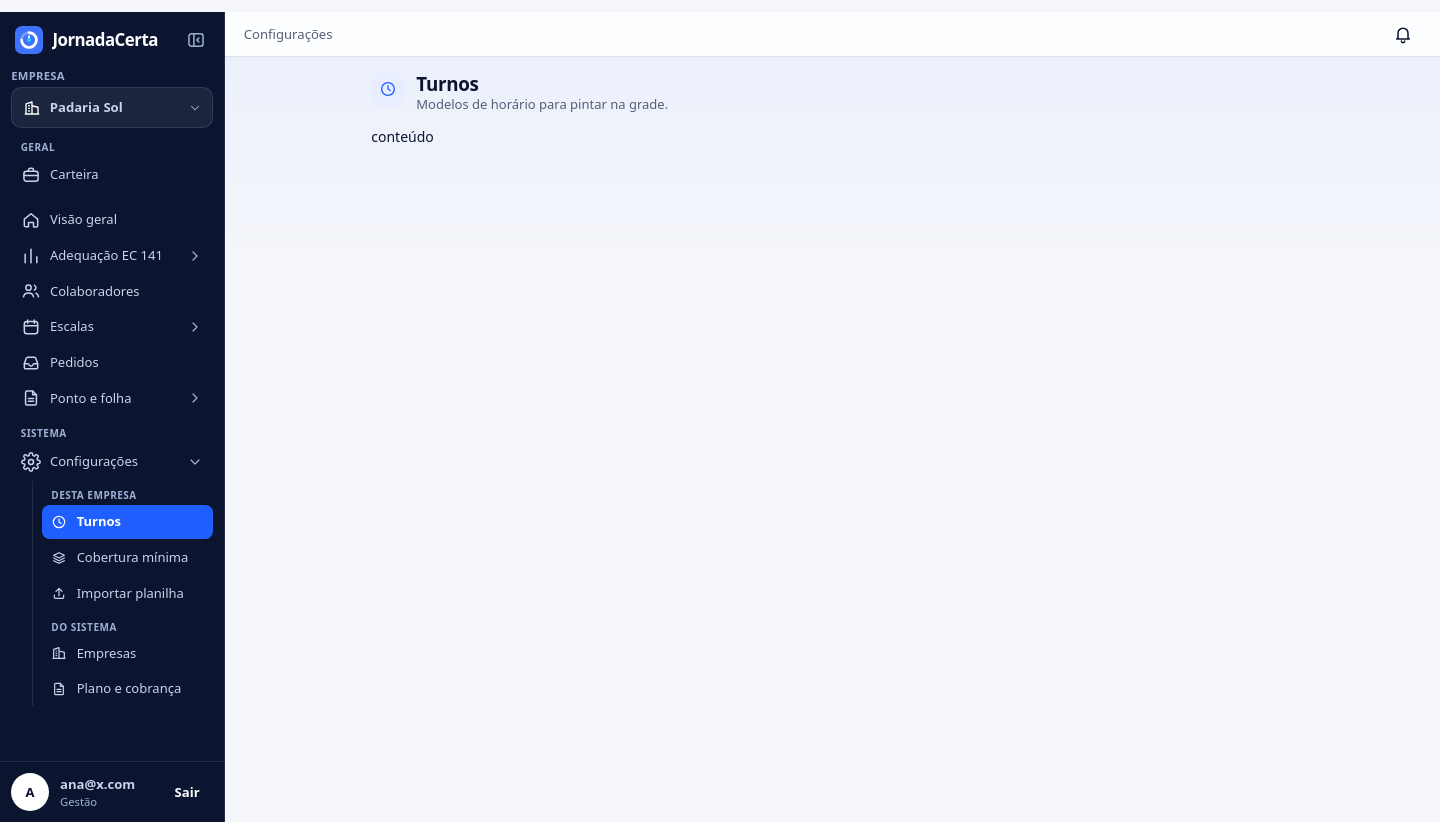
Test: Shell › recolhe para o modo compacto e expande de volta
Click the button named "Recolher o menu": point(196, 40) [179,23,213,57]
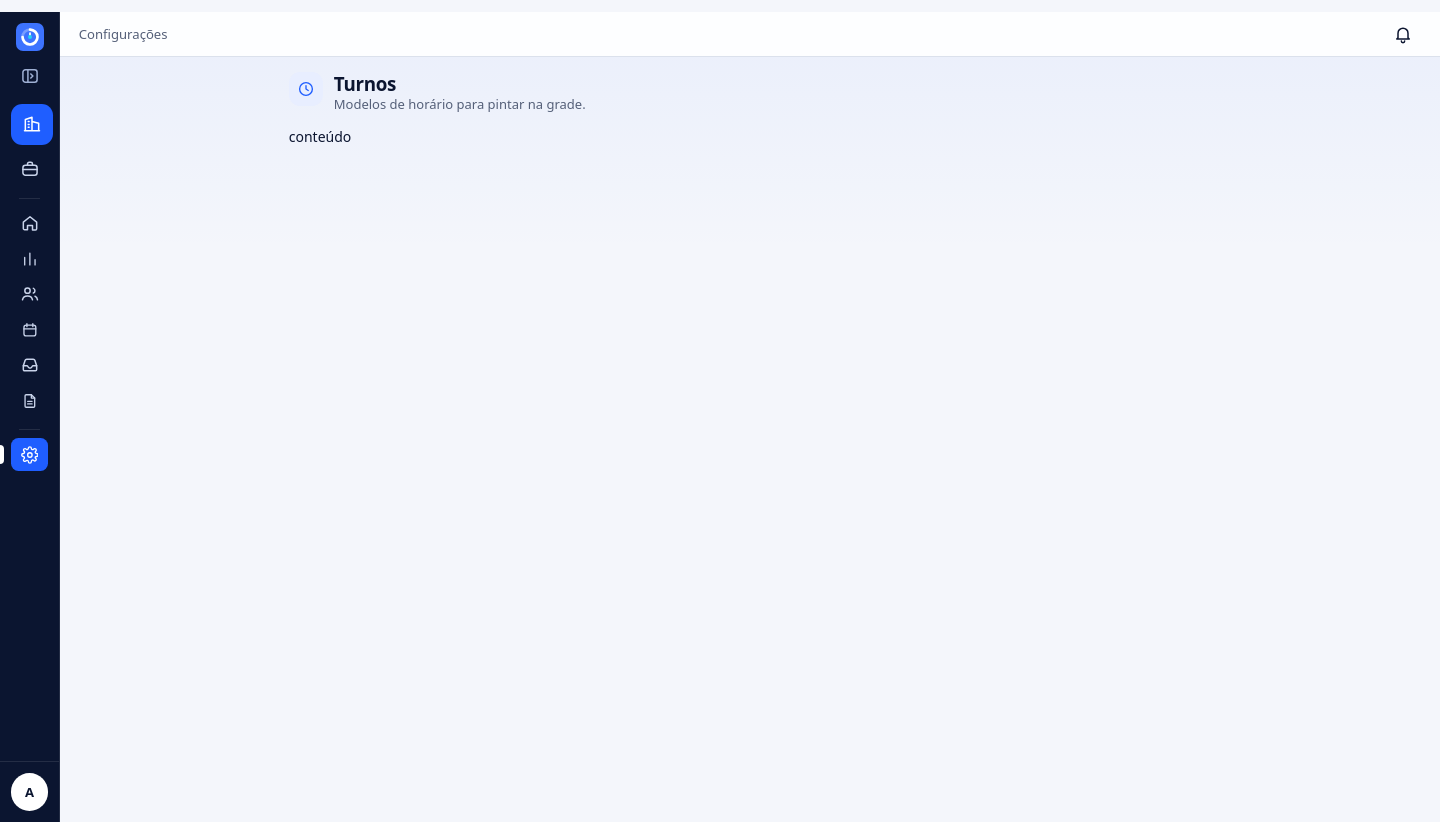
Expected: the button named "Expandir o menu" is shown
Expected: the text "JornadaCerta" is gone
Click the button named "Expandir o menu": point(30, 76) [13,59,46,93]
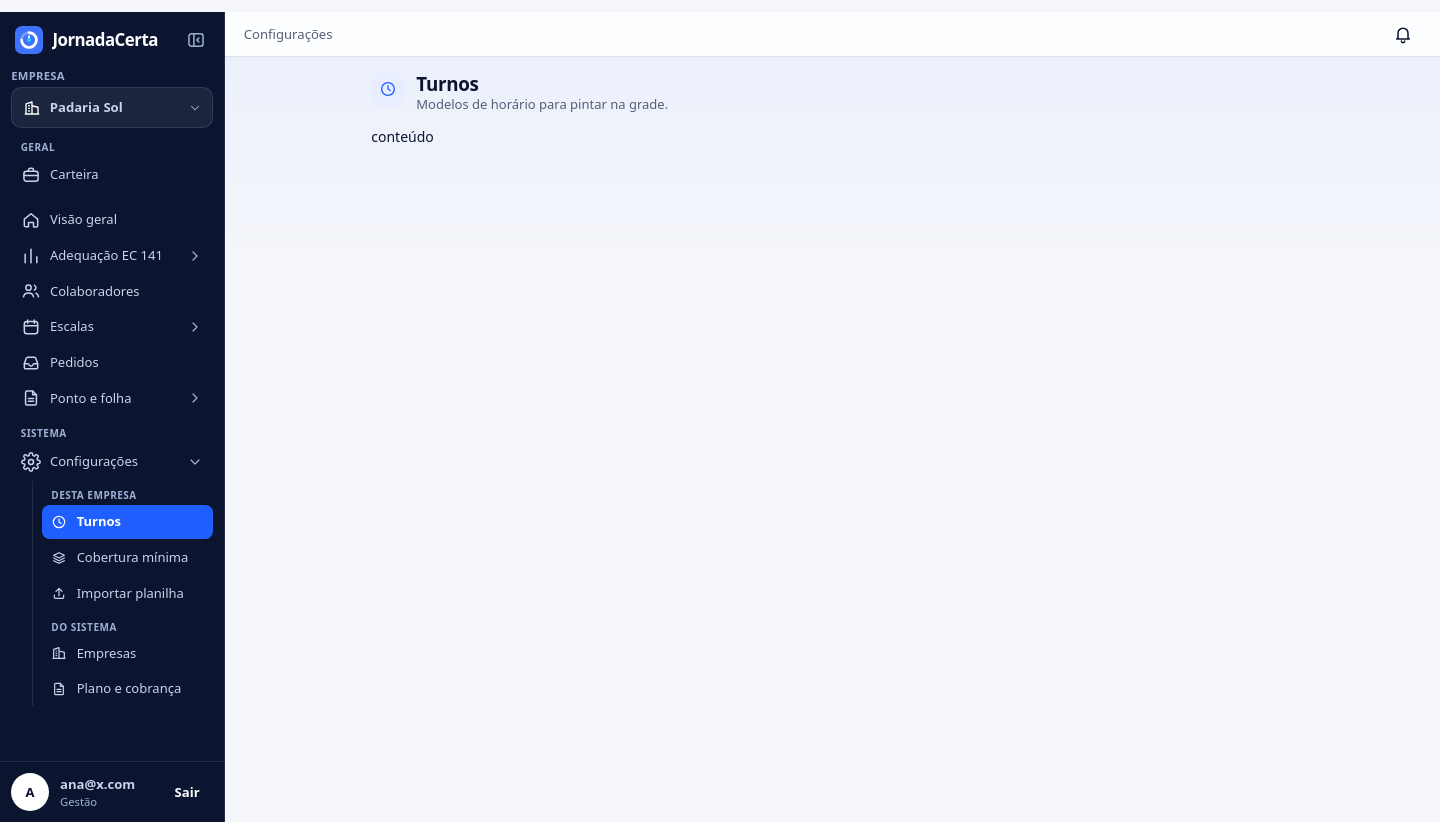
Expected: the text "JornadaCerta" is shown, [52,27,158,53]
